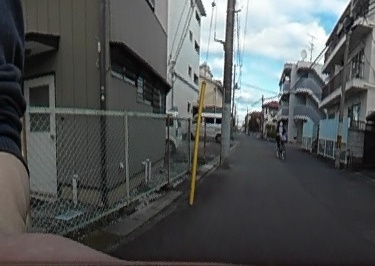person: (275, 117, 286, 158)
